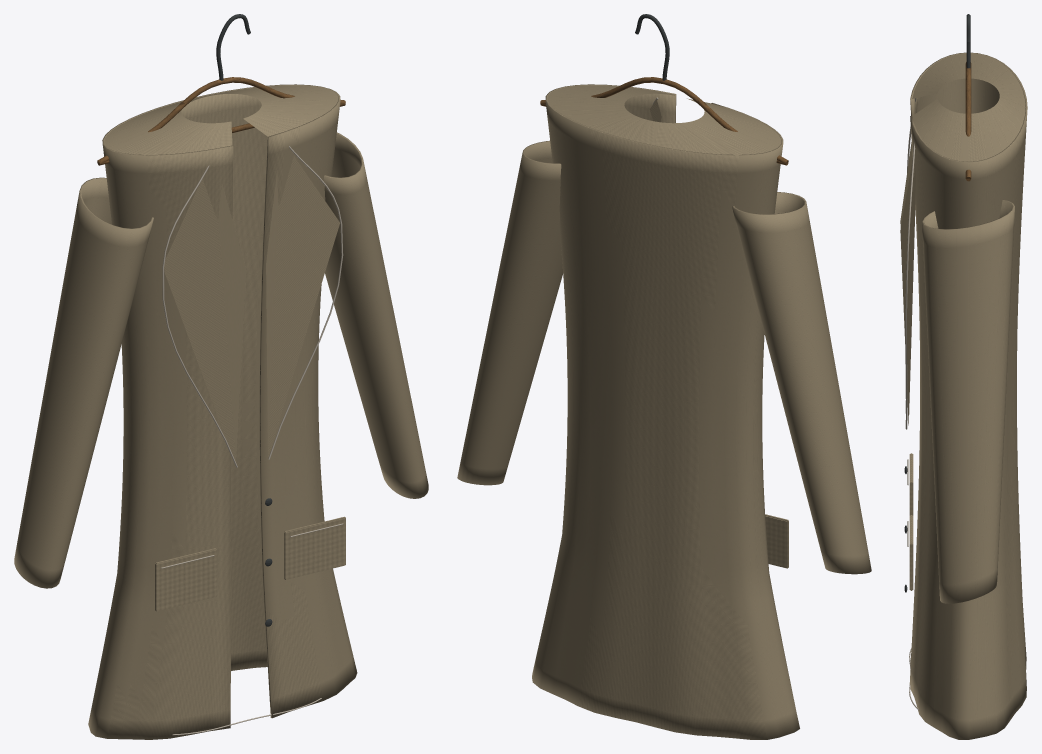
The model's file is sku_v24_long_coat.glb.
The picture shows the model from 3 angles, left to right: view 1: azimuth 30°, elevation 25°; view 2: azimuth 150°, elevation 25°; view 3: azimuth 270°, elevation 25°; orthographic projection.
Visible parts, largest first — view 1: sku_v24_long_coat_Woven_linen_suiting, sku_v24_long_coat_Stitching, sku_v24_long_coat_CC0_Oak_veneer; view 2: sku_v24_long_coat_Woven_linen_suiting, sku_v24_long_coat_CC0_Oak_veneer; view 3: sku_v24_long_coat_Woven_linen_suiting, sku_v24_long_coat_Stitching, sku_v24_long_coat_CC0_Oak_veneer, sku_v24_long_coat_Anodised_graphite.
Boxes of the visible parts, x1,y1,x2,y2 form: sku_v24_long_coat_Woven_linen_suiting: [14, 84, 428, 739]; sku_v24_long_coat_Stitching: [161, 146, 343, 735]; sku_v24_long_coat_CC0_Oak_veneer: [97, 77, 345, 165]; sku_v24_long_coat_Woven_linen_suiting: [457, 84, 871, 739]; sku_v24_long_coat_CC0_Oak_veneer: [540, 77, 788, 165]; sku_v24_long_coat_Woven_linen_suiting: [900, 52, 1027, 739]; sku_v24_long_coat_Stitching: [905, 98, 918, 710]; sku_v24_long_coat_CC0_Oak_veneer: [965, 62, 971, 181]; sku_v24_long_coat_Anodised_graphite: [904, 14, 970, 592].
Bounding box in the file's own units: 0.6591 × 1.06 × 0.183.
4 materials, 2 textured.
